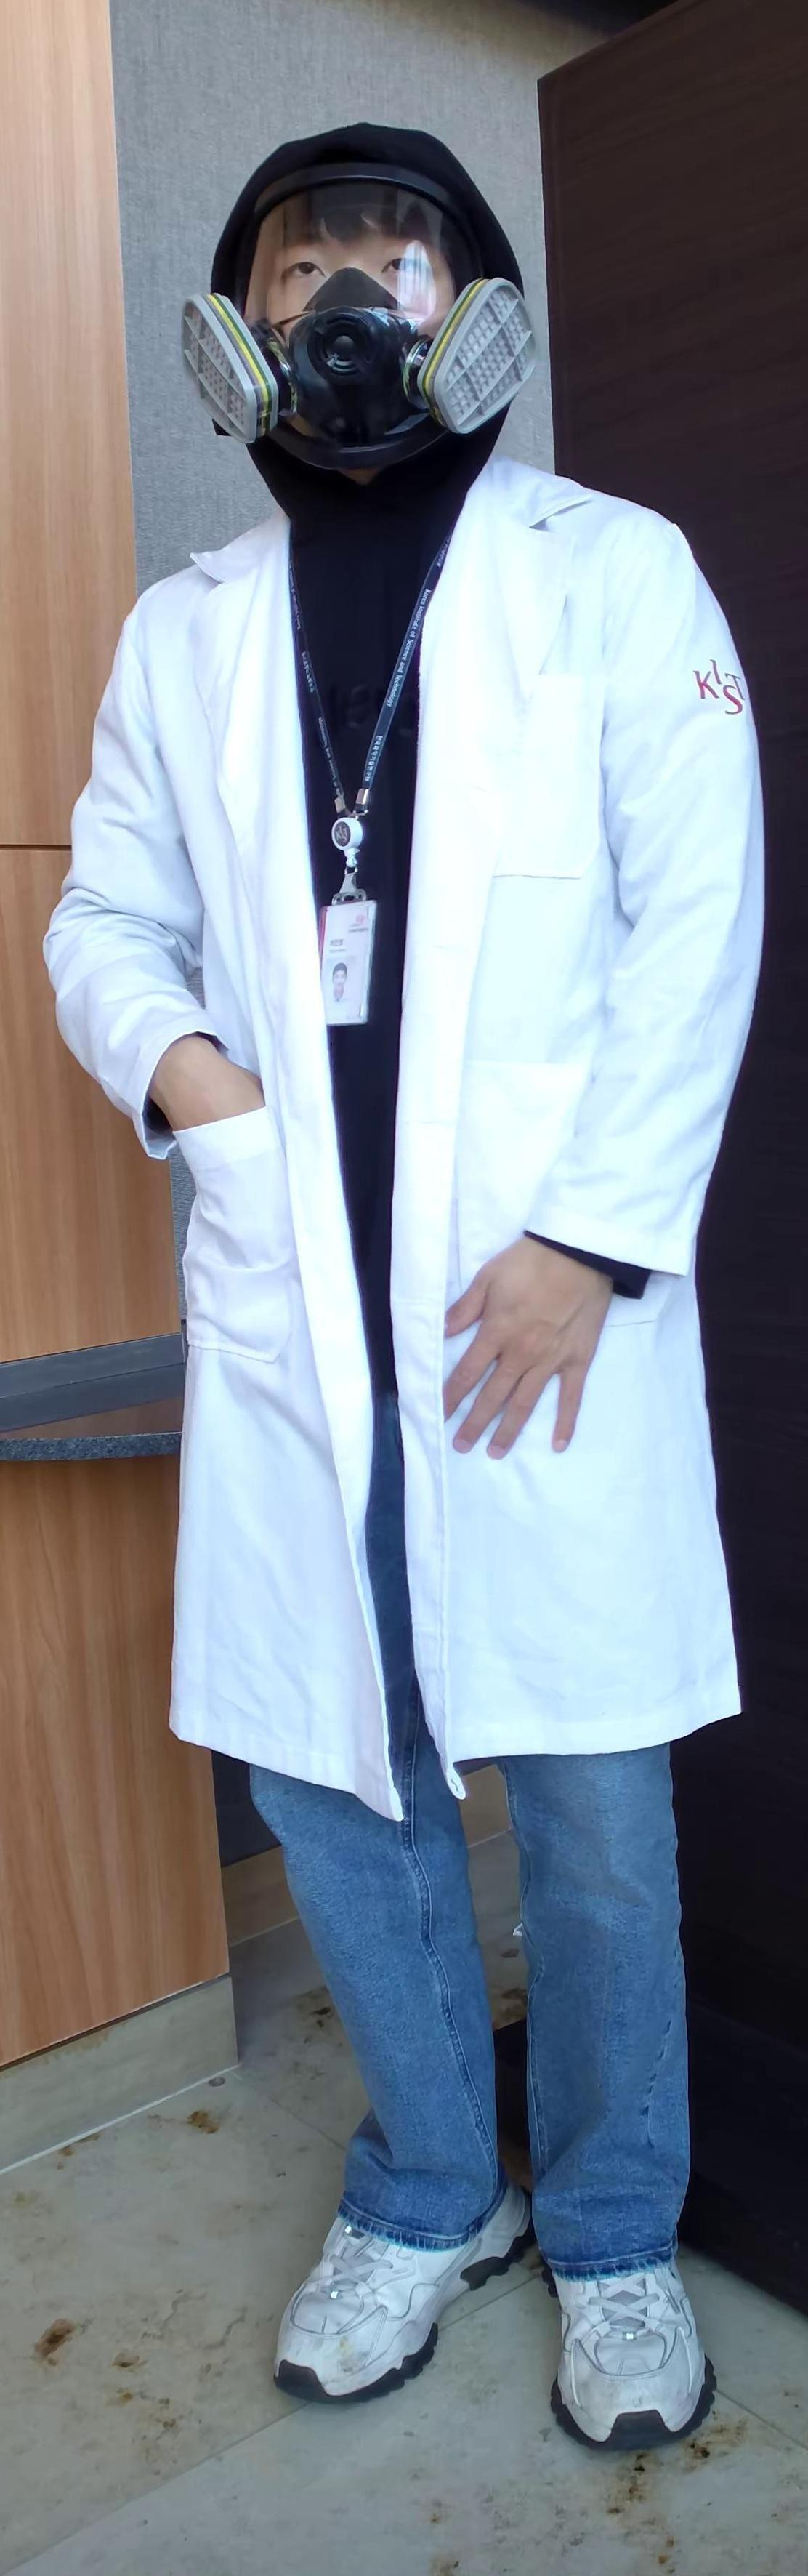lab_coat: (44, 562, 770, 1732)
